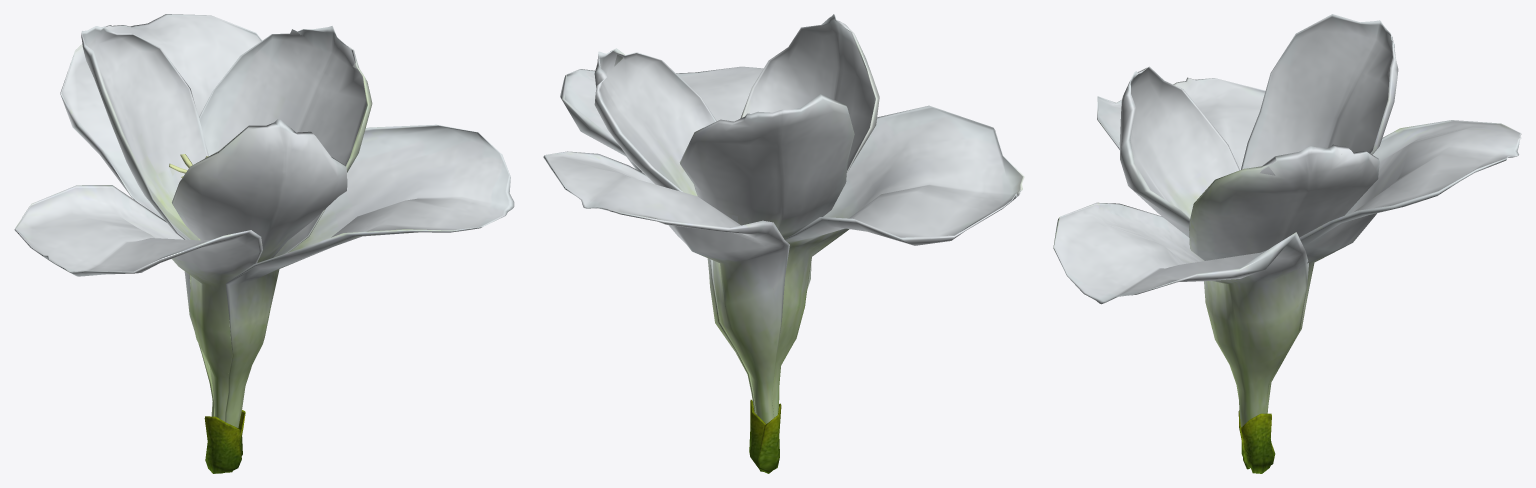
3 renders of one model, left to right at view 1: azimuth 30°, elevation 25°; view 2: azimuth 150°, elevation 25°; view 3: azimuth 270°, elevation 25°, orthographic. The views are drawn at different scales.
Parts seen in each view (by area): view 1: Freesia_Flower_convert; view 2: Freesia_Flower_convert; view 3: Freesia_Flower_convert.
Boxes of the visible parts, x1=… form: Freesia_Flower_convert: x1=14, y1=14, x2=514, y2=473; Freesia_Flower_convert: x1=543, y1=14, x2=1024, y2=473; Freesia_Flower_convert: x1=1053, y1=14, x2=1521, y2=473.
Bounding box in the file's own units: 0.5 × 0.4523 × 0.4629.
1 material, 1 textured.
